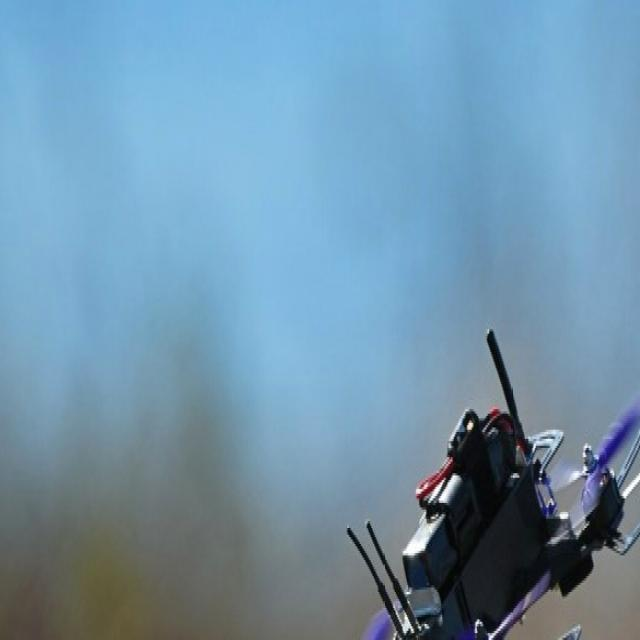drone: (265, 327, 640, 640)
